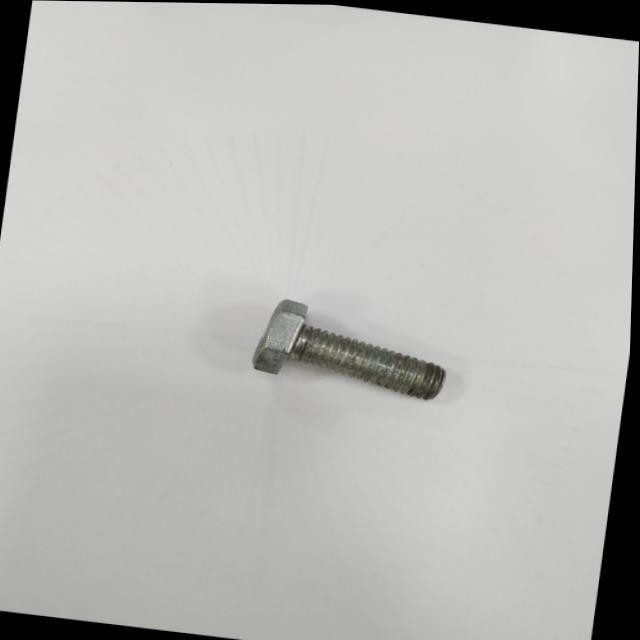Bolt: (254, 298, 448, 398)
